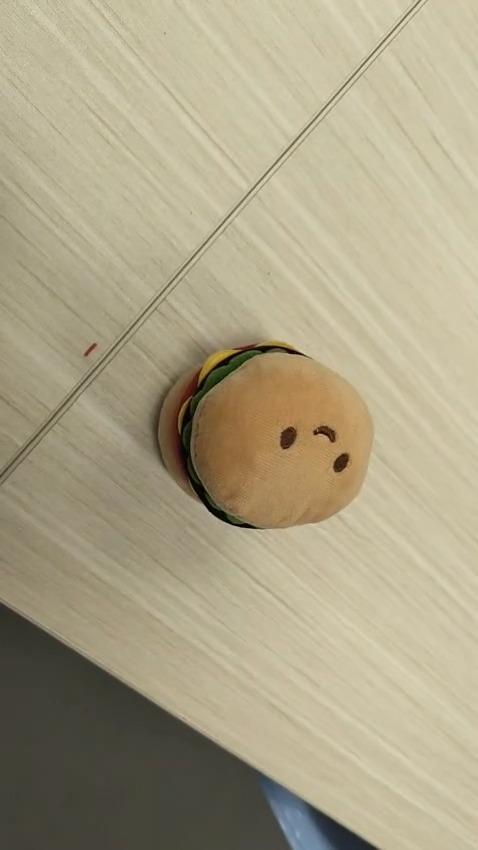hamburger: (156, 338, 374, 530)
